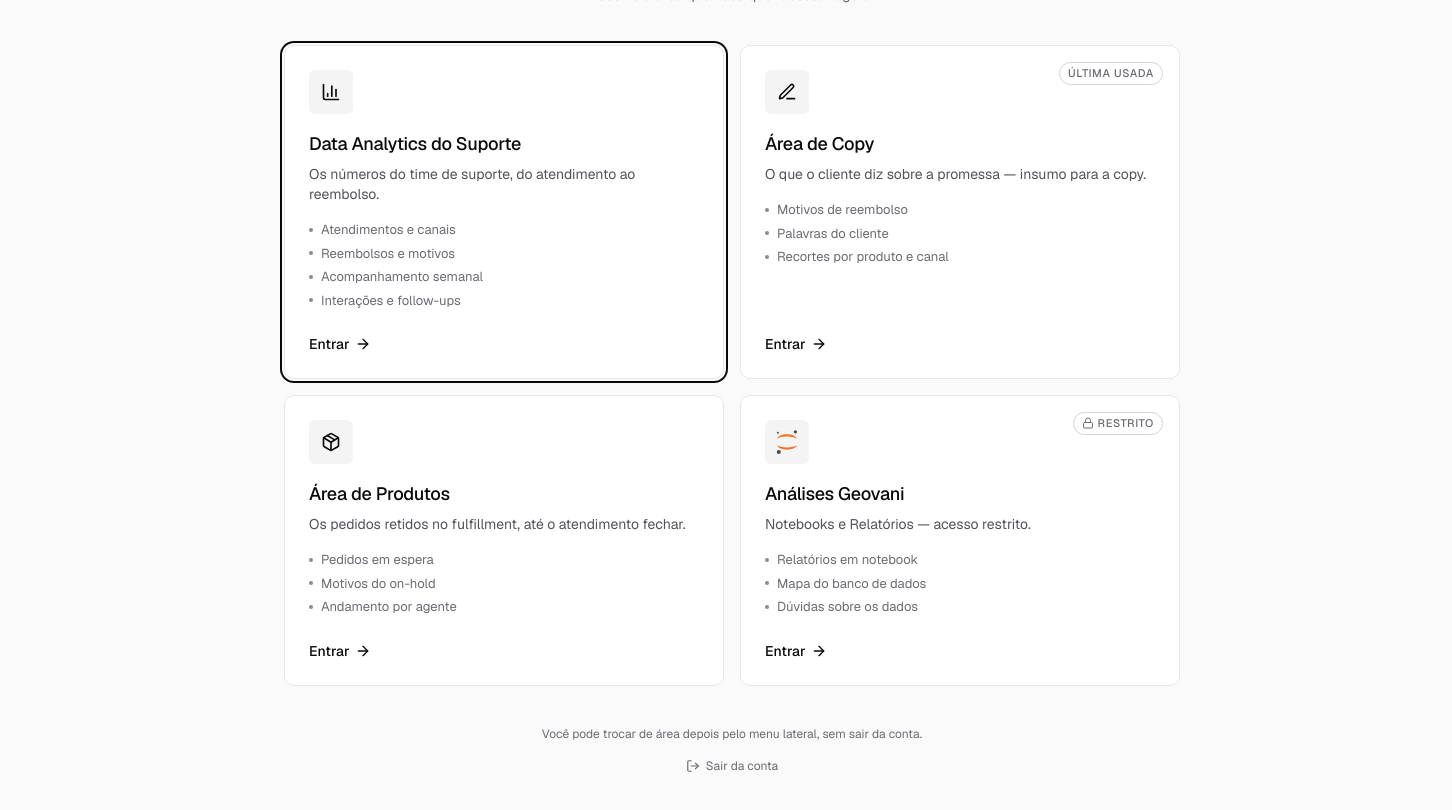
AreaSelect — card Análises Geovani › com a flag, copy entra nas Análises
(page scrolled)
What coordinates should you click on to do the following:
click the button with aria-label "Entrar nas Análises Geovani"
I would click on:
 (1118, 423)
Its box is [740, 395, 1180, 686].
(page scrolled)
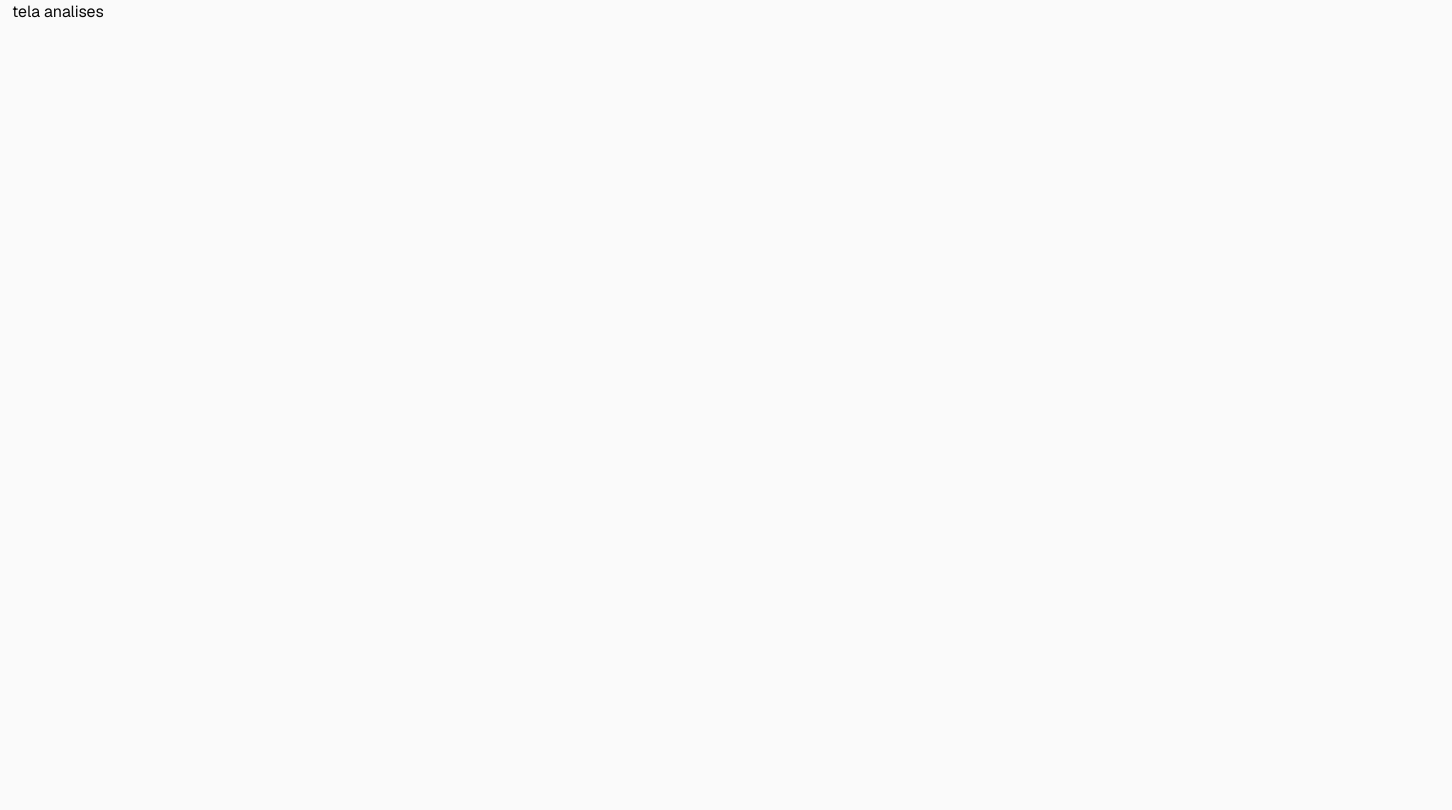
Check: the text "tela analises" is shown, box [12, 1, 104, 22]
